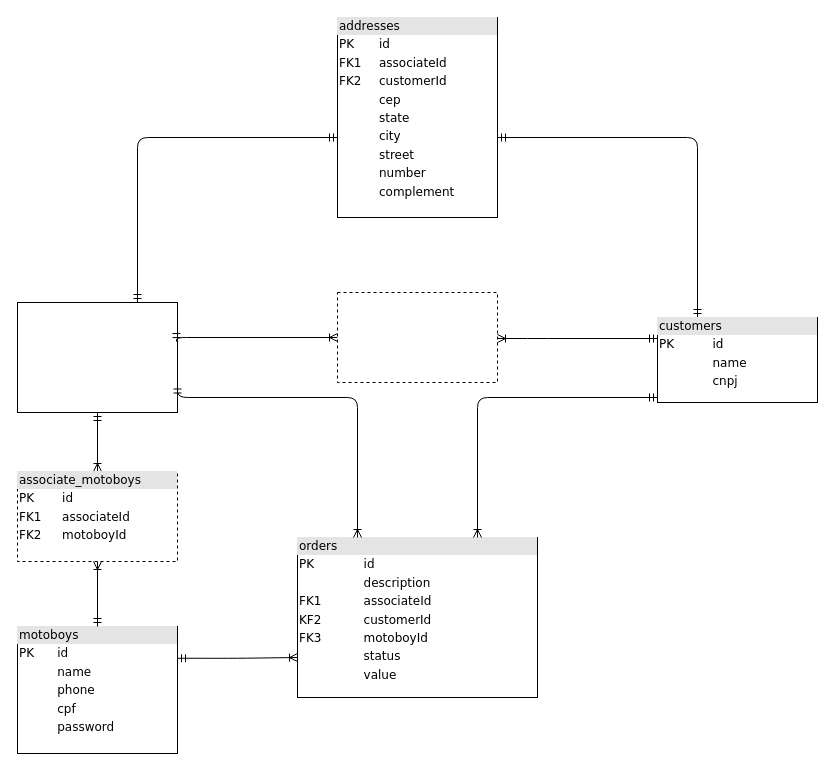
The diagram is 835 pixels wide and 771 high, and some of its shapes have lost their labels. The centre of each missing label's shape, as x and y in pixels:
"associate_customers PK id FK1 associateId FK2 customerId" goes at pixel 417 337.
"associates PK id name cnpj password" goes at pixel 97 357.
